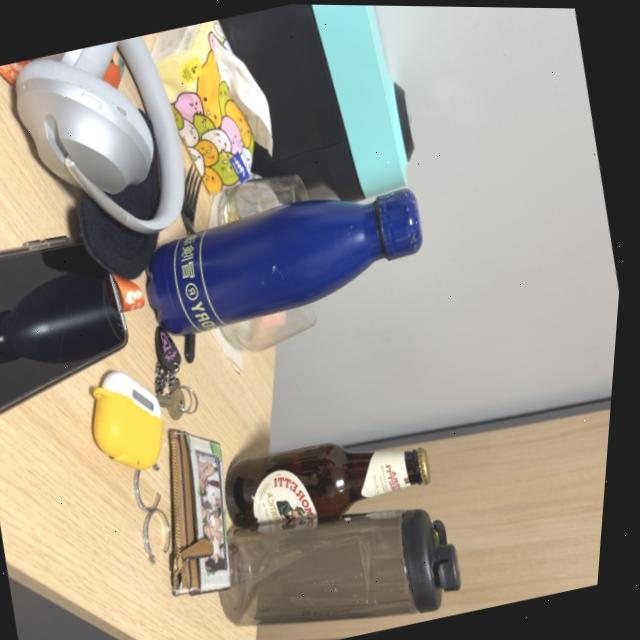beer: (218, 406, 448, 544)
